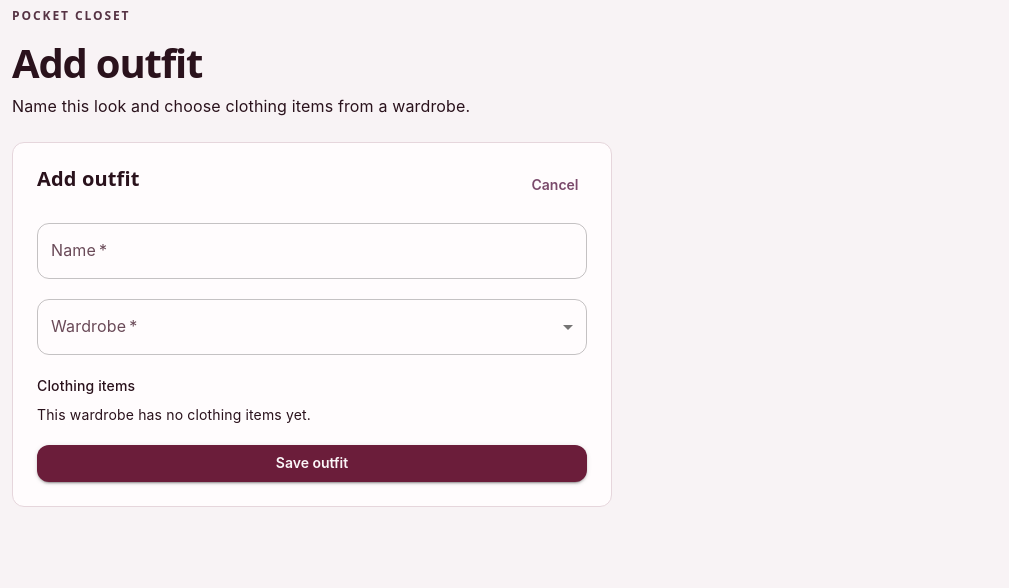
Scenario: OutfitFormPage › shows the same upgrade prompt when create returns 403
The image size is (1009, 588).
Type "Cafe" into the field labelled "Name" at (312, 251), box [37,223,587,279]
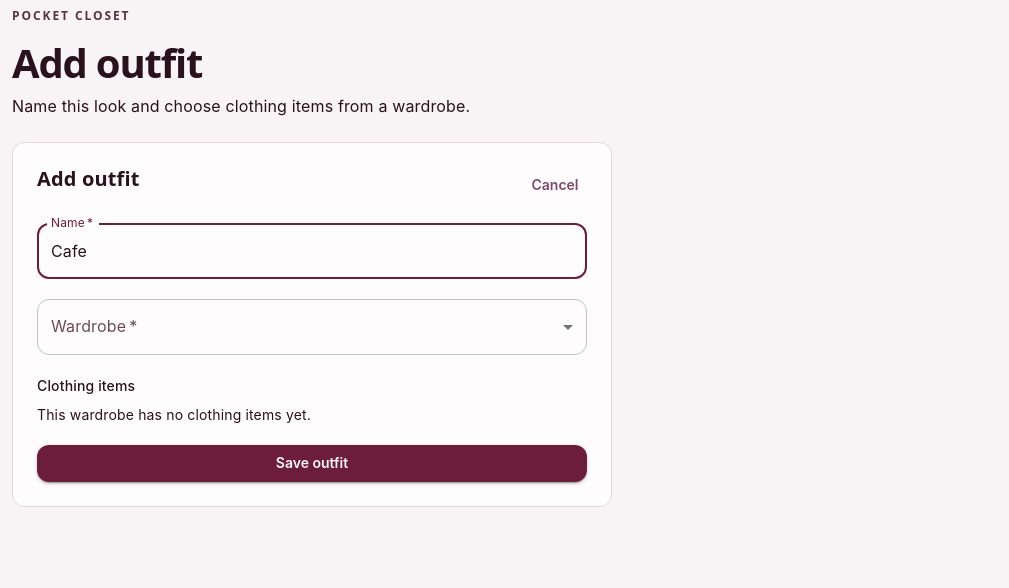
Click the dropdown named "Wardrobe" at (312, 327), box [37,299,587,355]
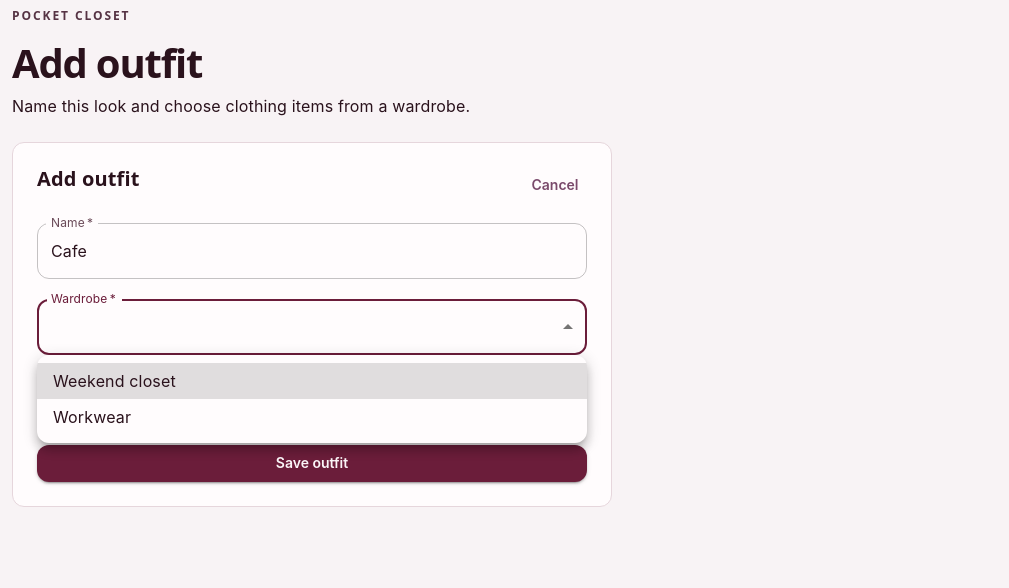
Click the option "Weekend closet" at (114, 381), box [37,363,587,399]
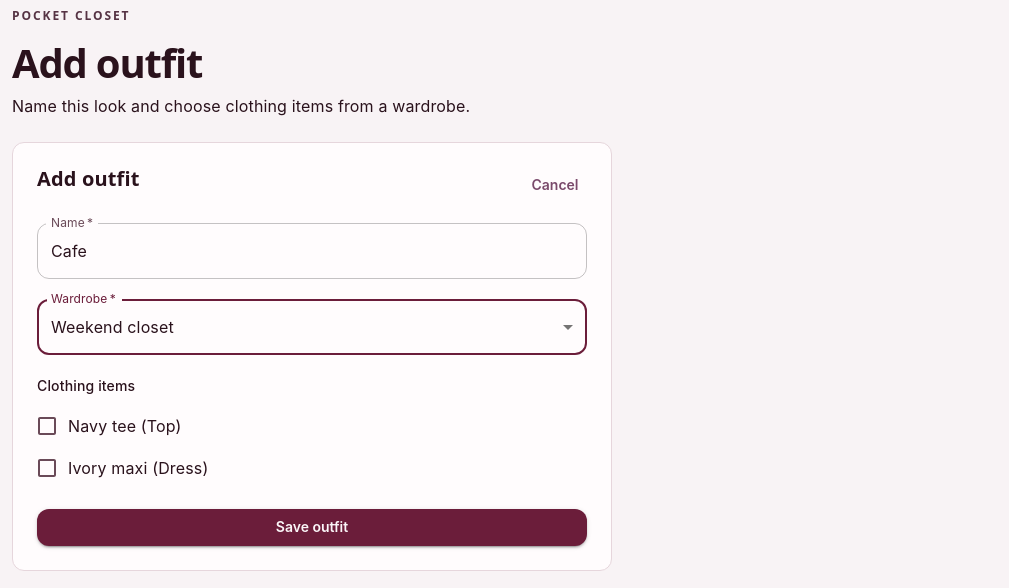
Click the checkbox labelled "Navy tee (Top)" at (108, 426), box [35,414,182,438]
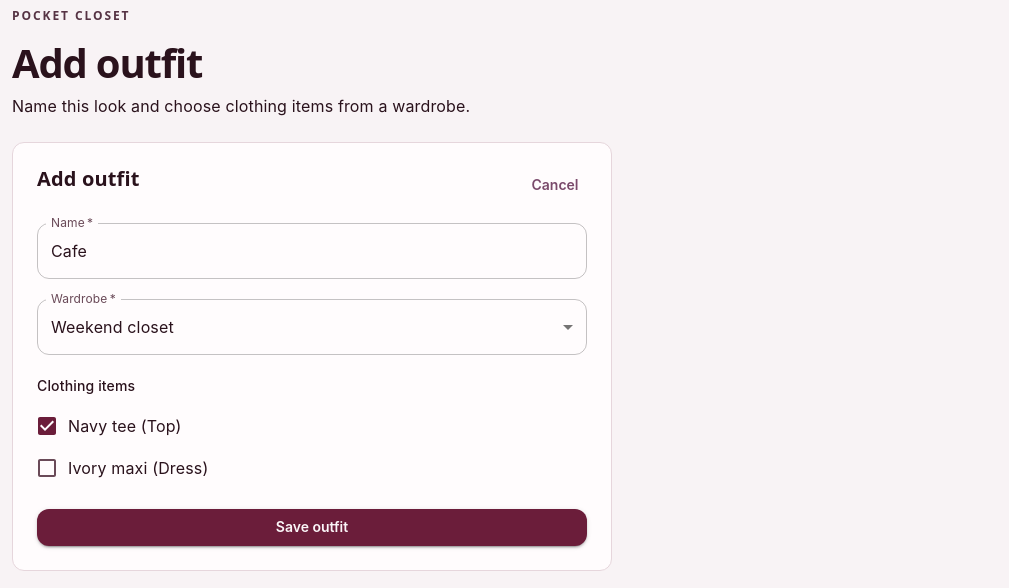
Click the button "Save outfit" at (312, 528), box [37,509,587,546]
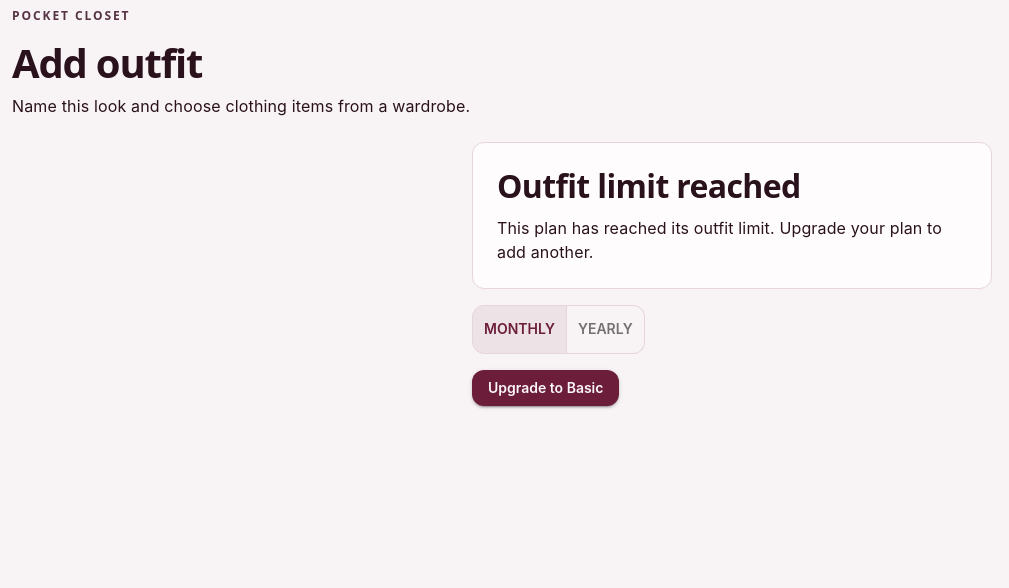
Check: the heading "Outfit limit reached" is shown, box [497,164,801,207]
Check: the text "This plan has reached its outfit limit. Upgrade your plan to add another." is shown, box [497,216,967,264]
